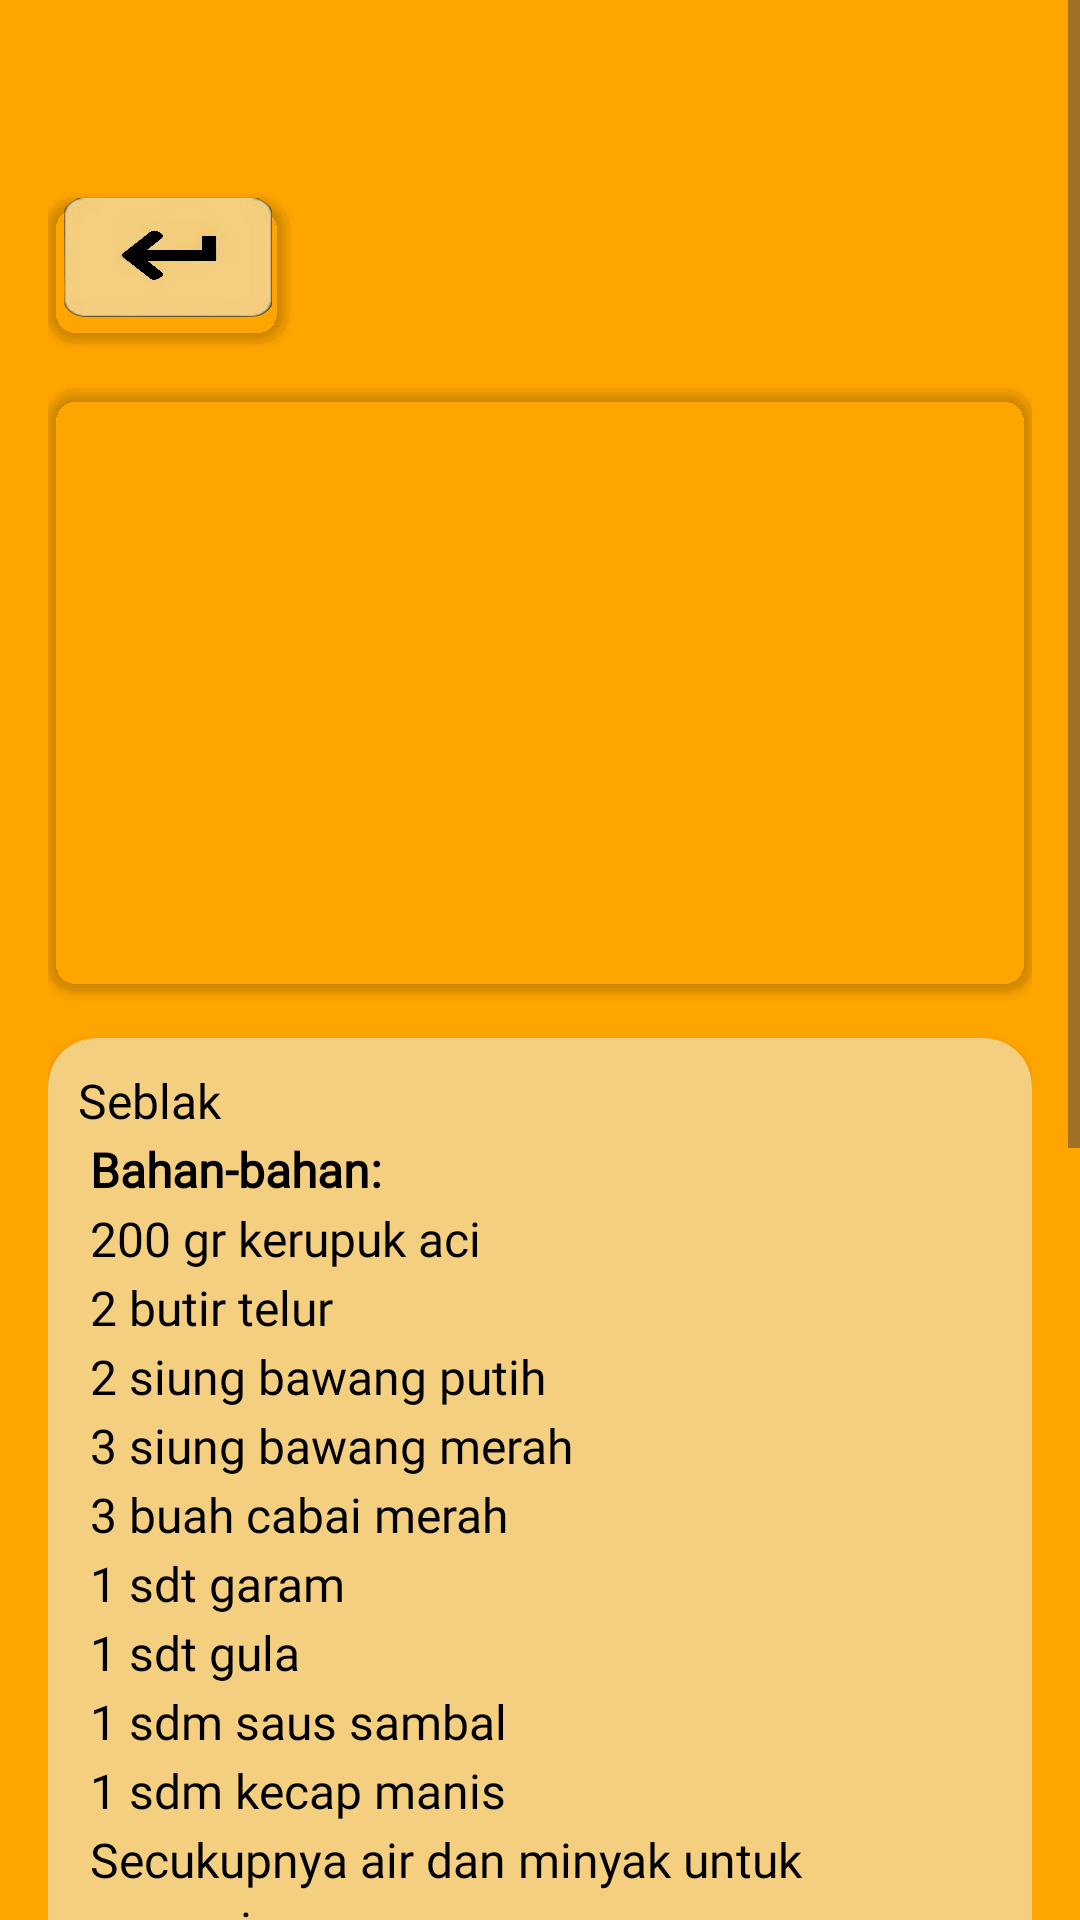

Screen size 1080*1920. Icon name, then its center in pixels as (x,y):
Kembali: (166,270)
